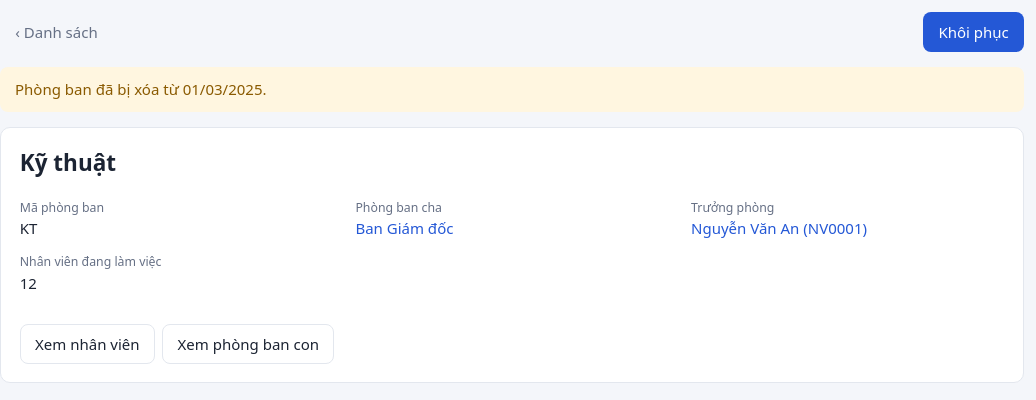
Test: DepartmentDetailPage › restores a deleted department
Click the button "Khôi phục": (974, 32) [923, 12, 1024, 52]
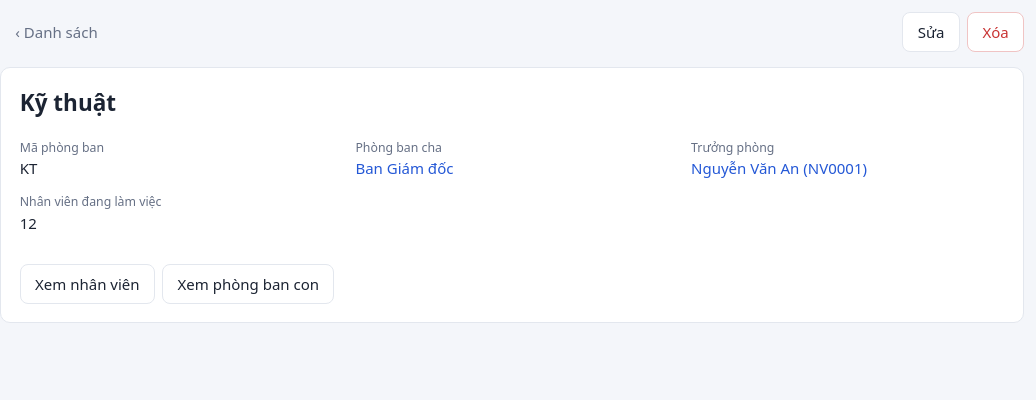
Result: the link "Sửa" is shown at [902, 12, 960, 52]
Result: the text "Phòng ban đã bị xóa" is gone
